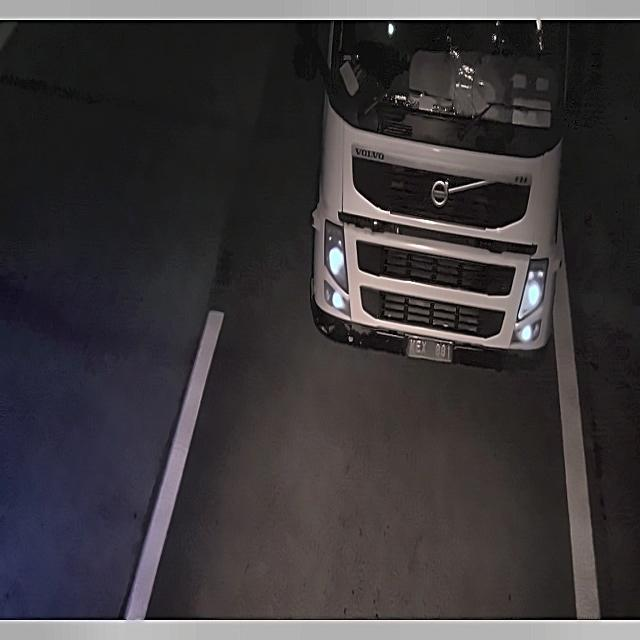car: (404, 331, 457, 368)
